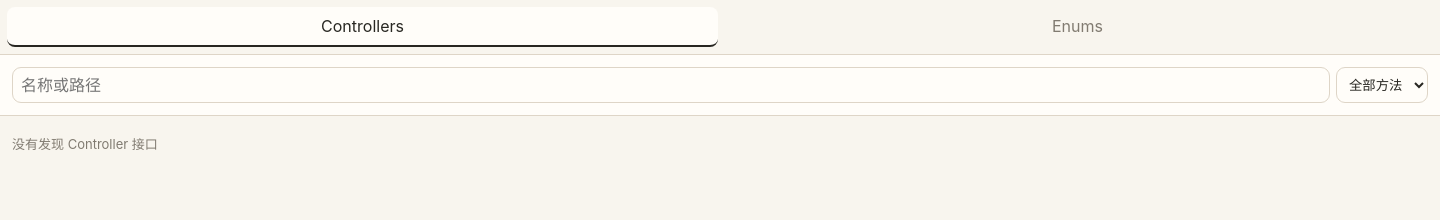
InformationPanel › switches between Controller and enum views
Check: the tab "Controllers" is shown, box [7,7,718,47]
Click the tab "Enums".
click(1078, 27)  # box [722,7,1433,47]
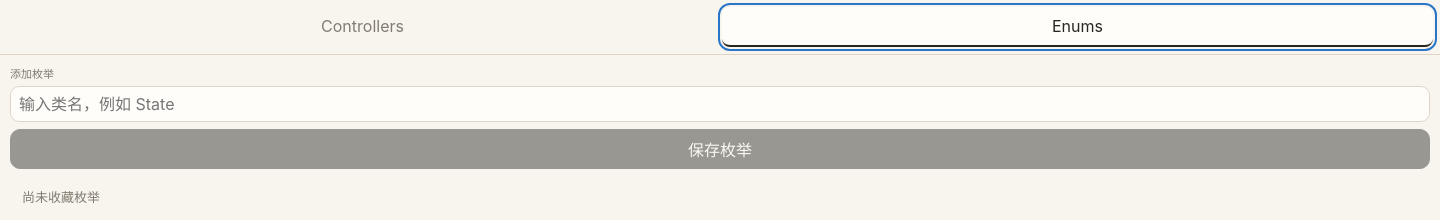
Check: the dropdown named "枚举类" is shown, box [10,86,1430,122]
